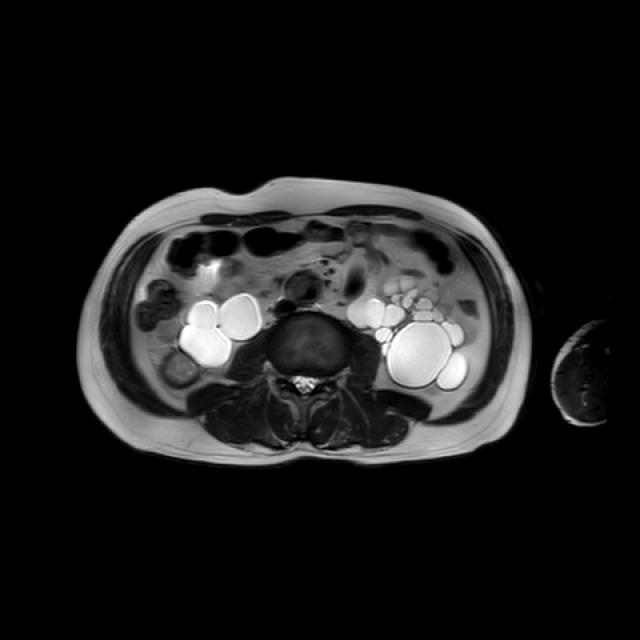sag: (160, 293, 262, 389)
sol: (346, 273, 473, 393)
